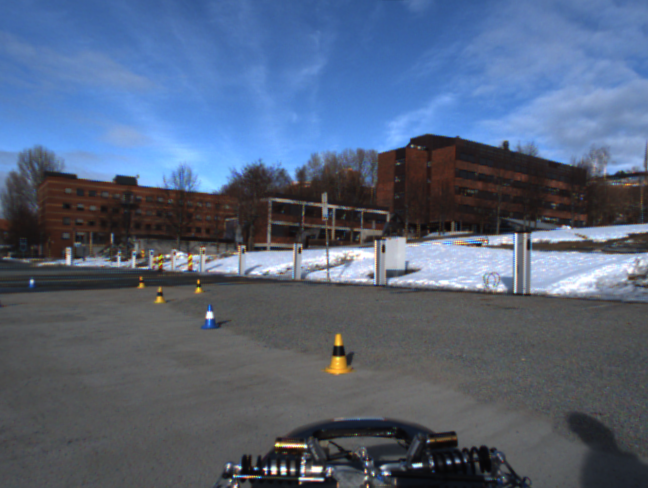cone-small-blue: (201, 304, 218, 329), (29, 276, 37, 289)
cone-small-yellow: (324, 334, 354, 374), (154, 286, 165, 303), (135, 275, 146, 289), (195, 280, 205, 294)
